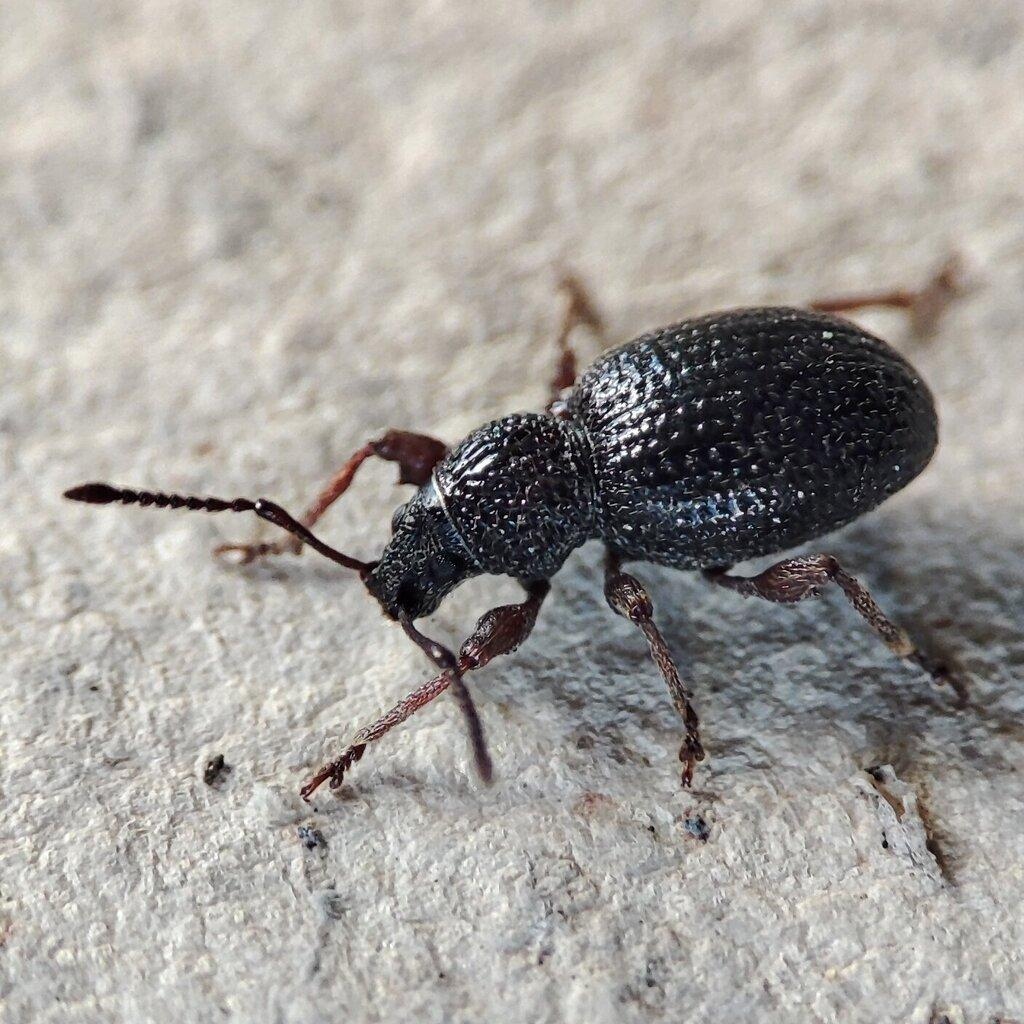weevils: (0, 209, 1024, 921)
